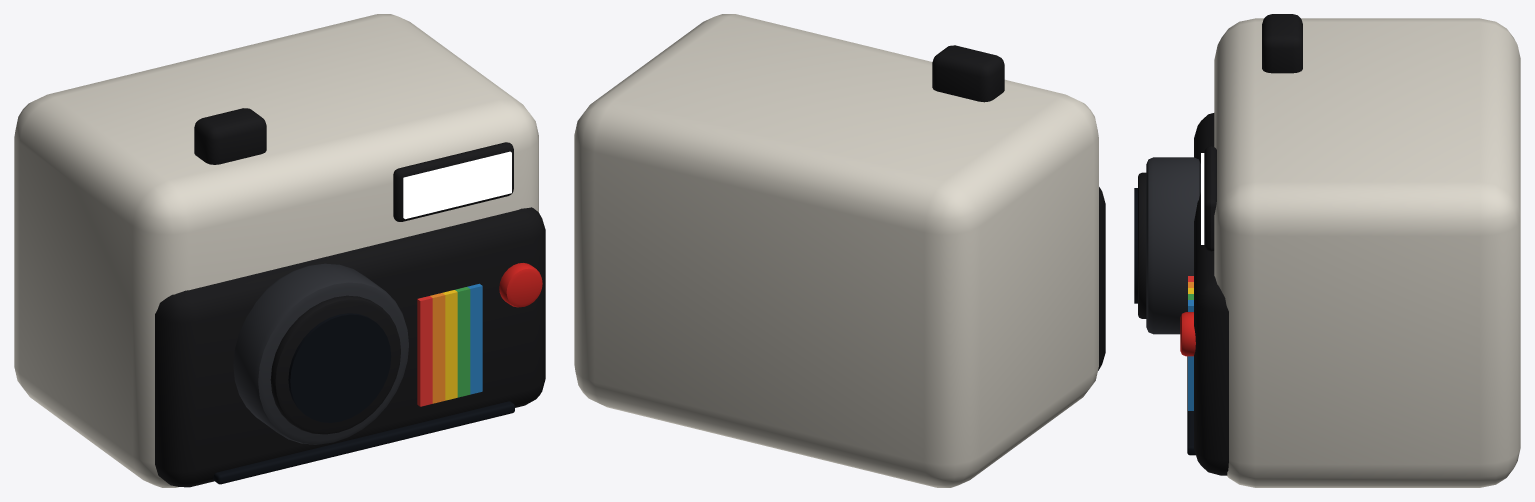
Rendered from camera.glb.
3 renders of one model, left to right at view 1: azimuth 30°, elevation 25°; view 2: azimuth 150°, elevation 25°; view 3: azimuth 270°, elevation 25°, orthographic.
Visible parts, largest first — view 1: Camera; view 2: Camera; view 3: Camera.
Part boxes in pixels (x1=…): Camera: x1=14, y1=14, x2=545, y2=487; Camera: x1=574, y1=14, x2=1105, y2=487; Camera: x1=1134, y1=14, x2=1520, y2=487.
Bounding box in the file's own units: 0.135 × 0.109 × 0.1136.
